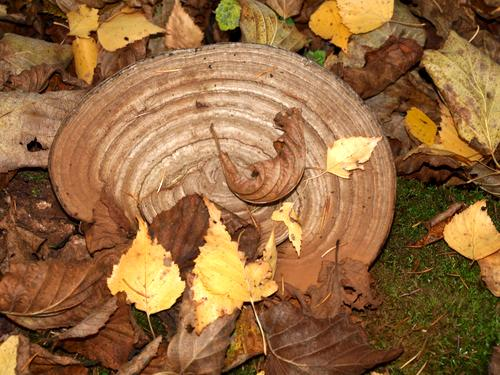Ganoderma - Fruit Body: (49, 44, 396, 291)
